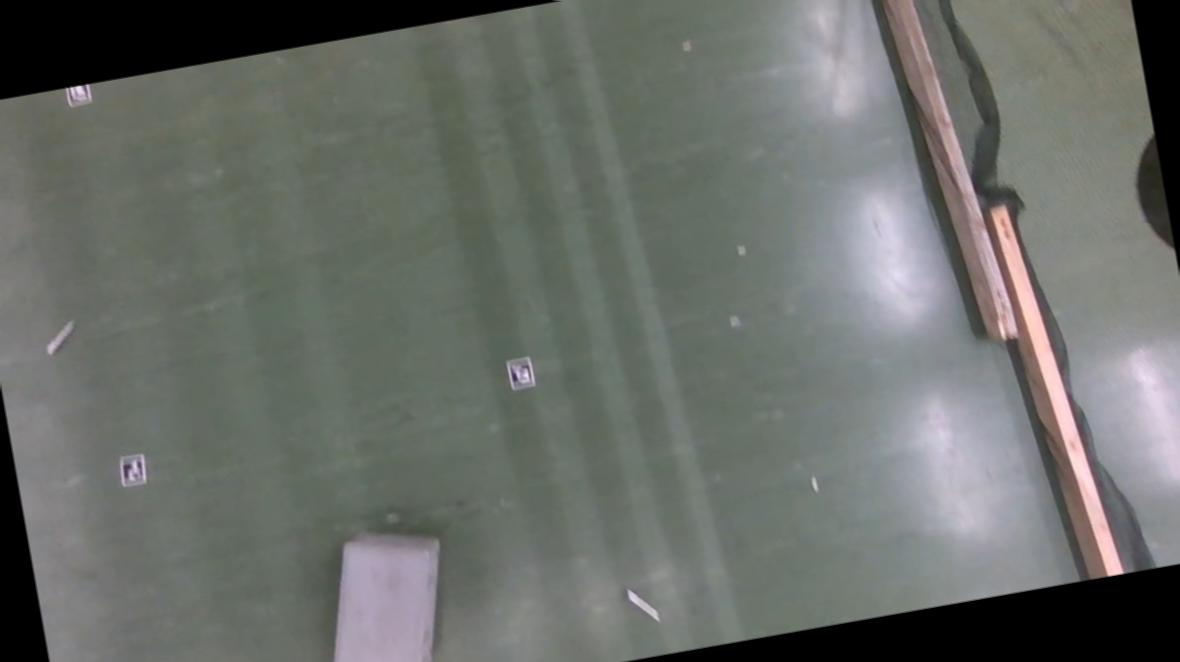probes: (627, 585, 660, 627), (43, 319, 79, 355)
rako: (309, 521, 466, 662)
